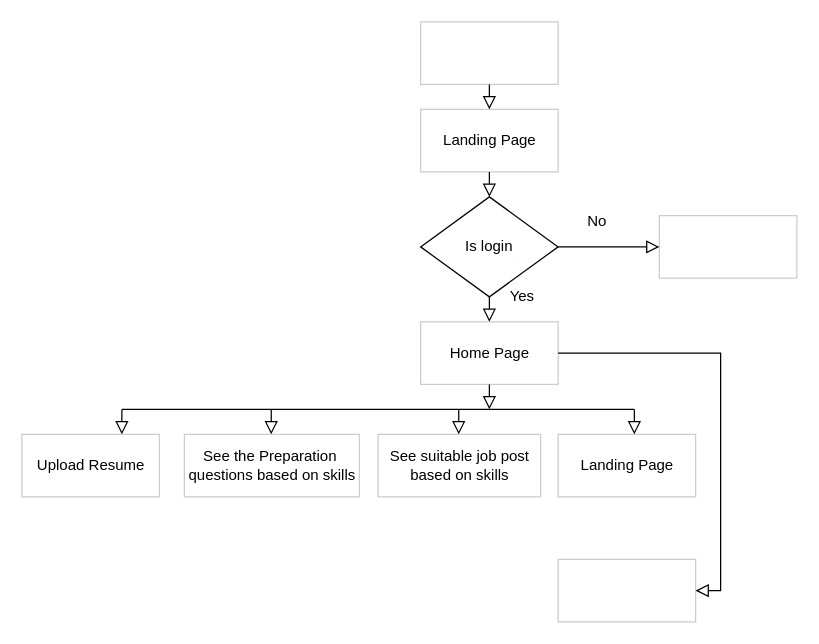
Image size: 819x644. Some labels were removed from this diagram. Here are the shapes that lost their labels. From the top down, the box of each, then its label:
(419, 21, 558, 84): Candidate
(658, 214, 797, 278): Registration
(557, 558, 696, 622): Logout
